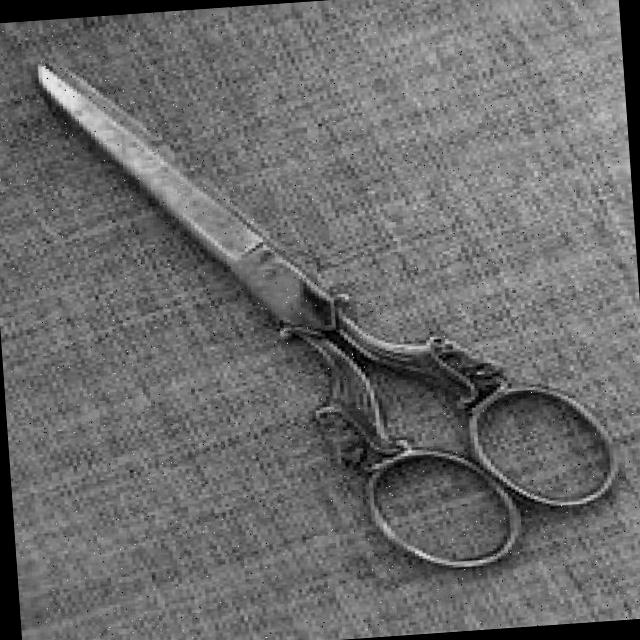scissors: (25, 19, 633, 598)
